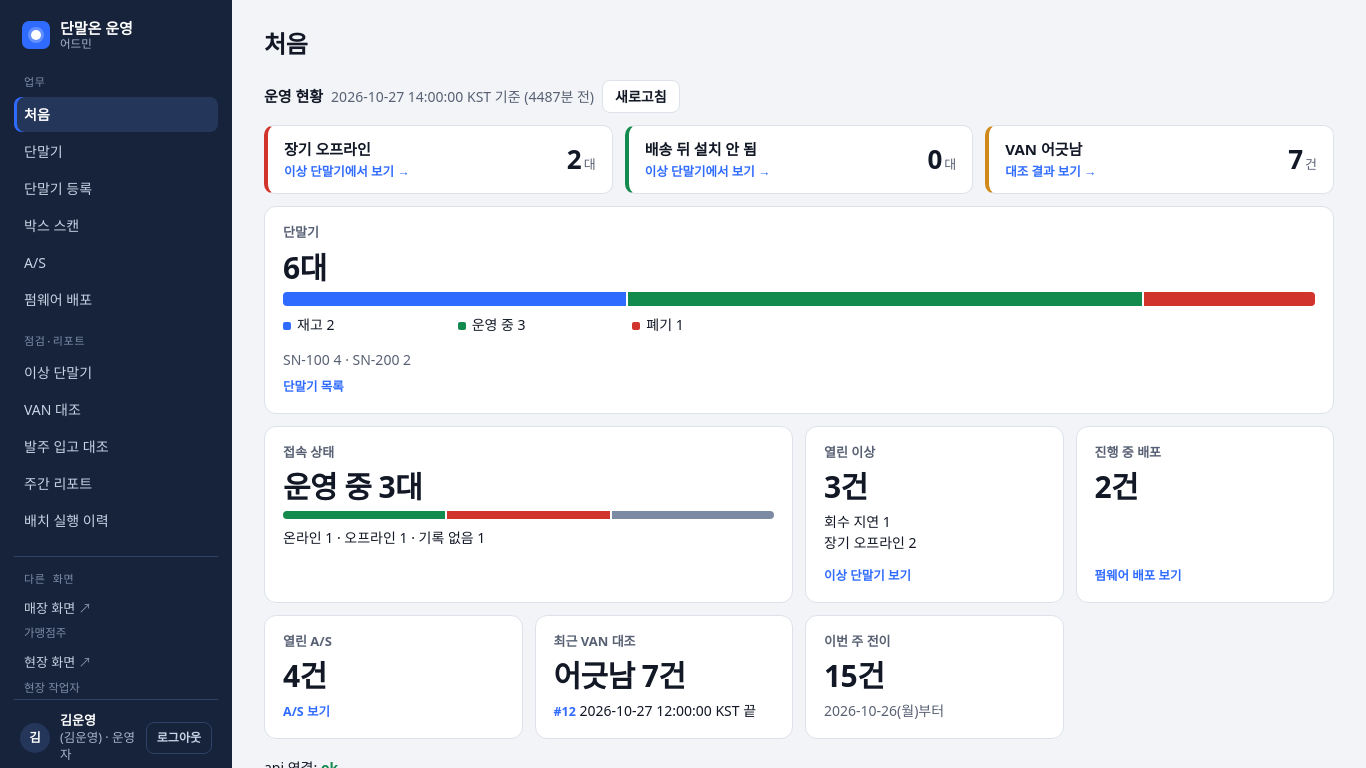
Test: 로그인한 사람이 바뀌면 화면 데이터 캐시를 비운다 › 로그아웃 요청이 실패하면 안내를 보이고 로그인 상태를 유지한다
Click the button "로그아웃" at (179, 738), box [146,722,212,754]
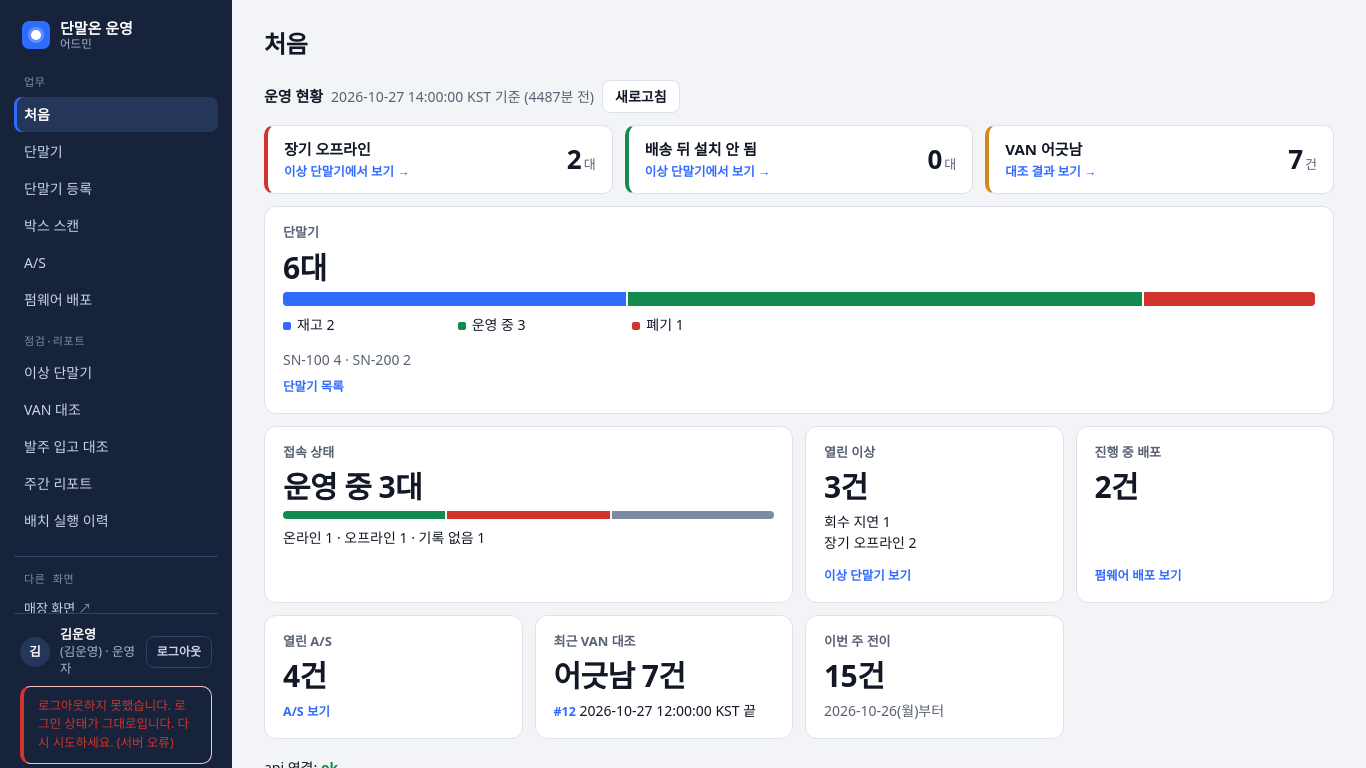
Expected: the button "로그아웃" is enabled, [146,636,212,668]
Expected: the message shows "로그아웃하지 못했습니다", [38,697,189,751]
